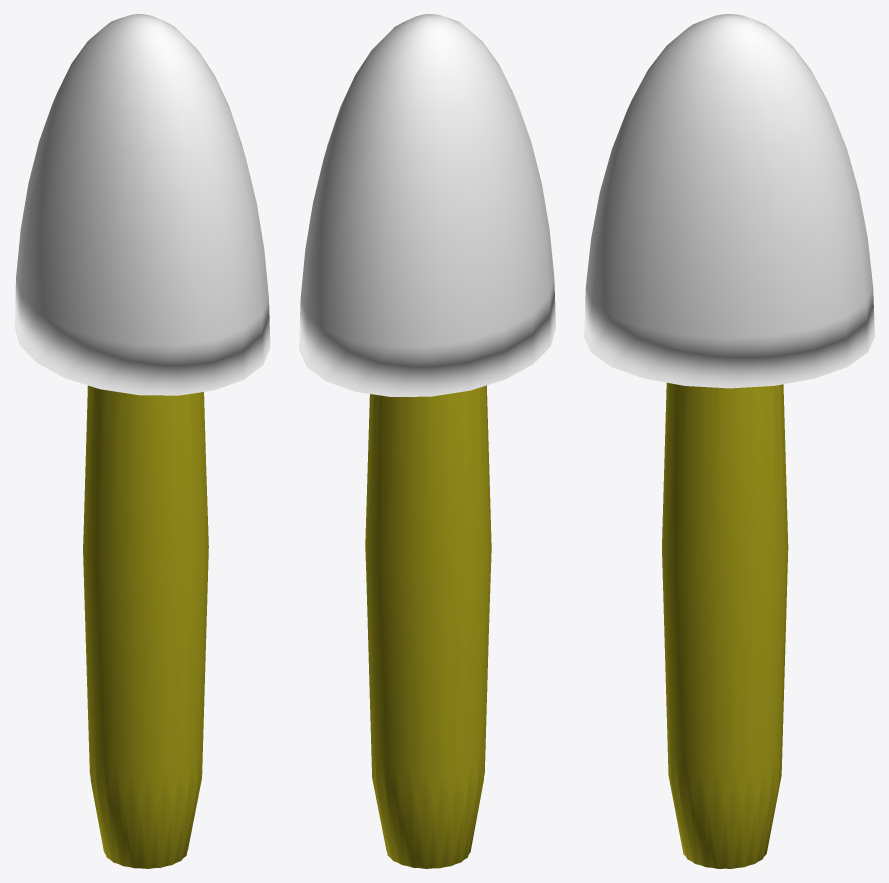
File: hand1.obj
The picture shows the model from 3 angles, left to right: view 1: azimuth 30°, elevation 25°; view 2: azimuth 150°, elevation 25°; view 3: azimuth 270°, elevation 25°; orthographic projection.
Visible parts, largest first — view 1: pSphere8, pCylinder1; view 2: pSphere8, pCylinder1; view 3: pSphere8, pCylinder1.
Part boxes in pixels (x1,y1,x2,y2): pSphere8: (14,14,270,395); pCylinder1: (83,385,208,868); pSphere8: (299,14,555,396); pCylinder1: (365,385,491,868); pSphere8: (584,14,874,388); pCylinder1: (662,382,788,868).
Size of the model in its own units: 1.01 by 3.81 by 1.21.
